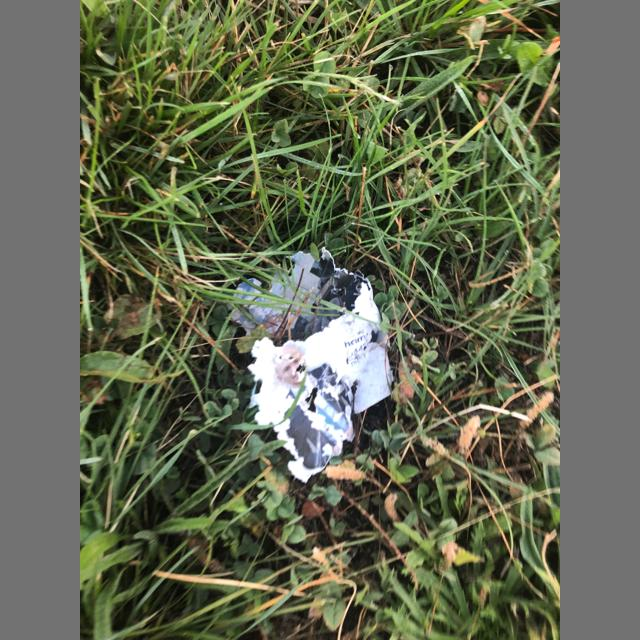litter: (227, 249, 393, 483)
